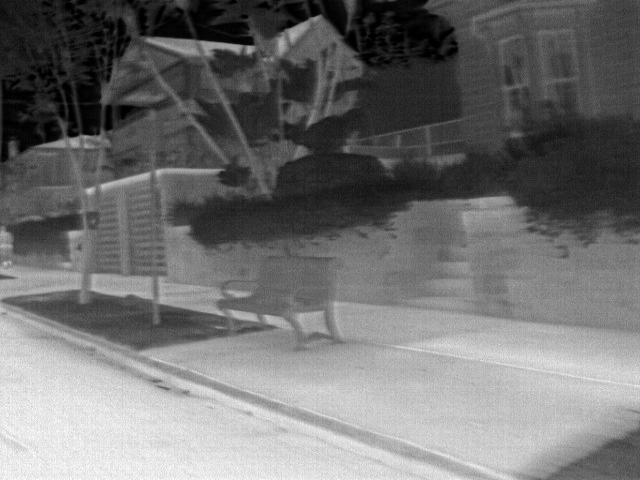person: (0, 223, 14, 270)
